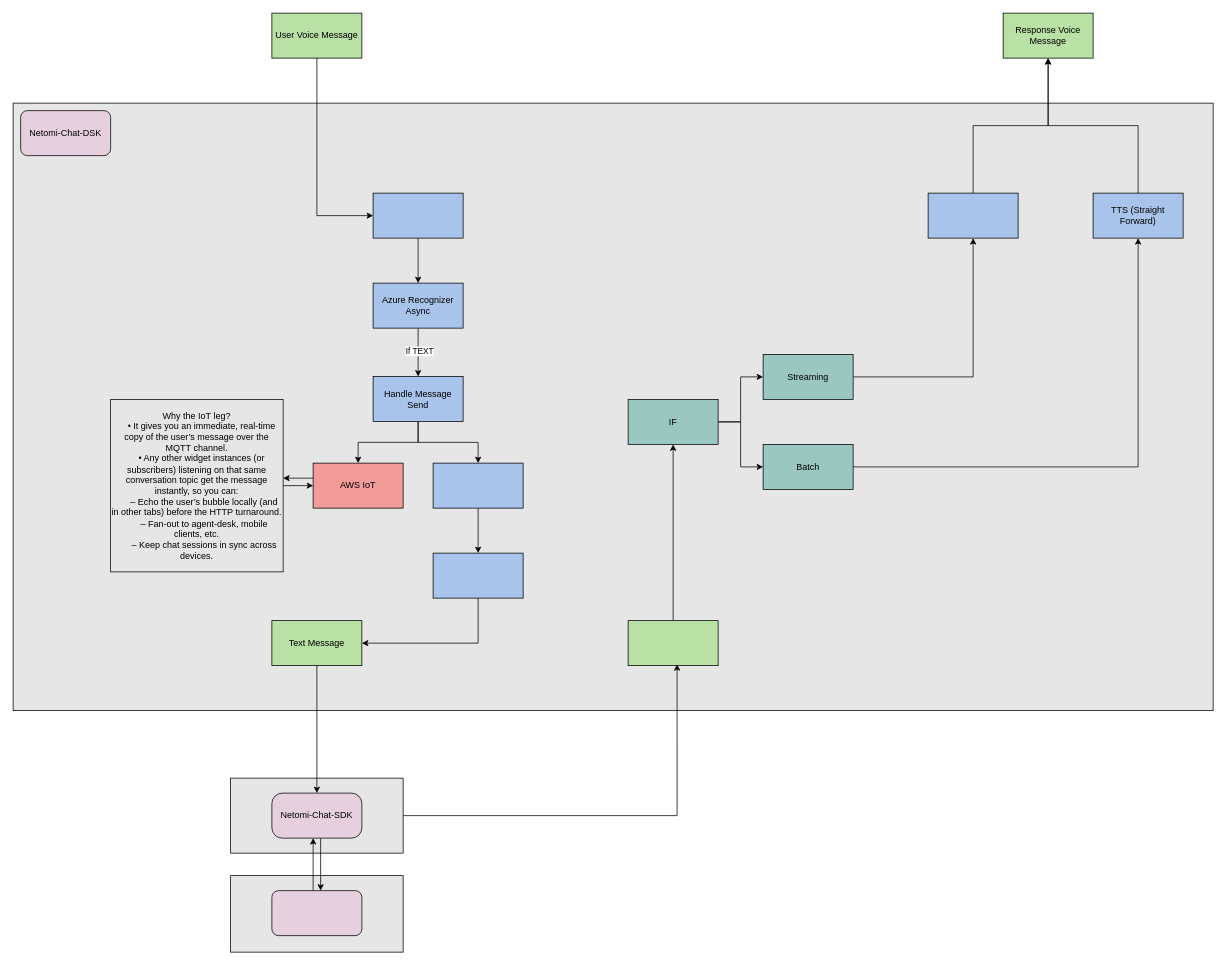
The diagram is 1226 pixels wide and 965 high, and some of its shapes have lost their labels. The shapes that lost their labels are listed below. From the top down, each one's centre as x and y in pixels, then its label:
At [417,215]: "Start Recording".
At [972,215]: "Streaming Logic (Abstracted)".
At [477,485]: "sendUserMessage".
At [477,575]: "POST /api/webhook-message".
At [672,643]: "Bot Text Response".
At [316,913]: "DS Logic".
